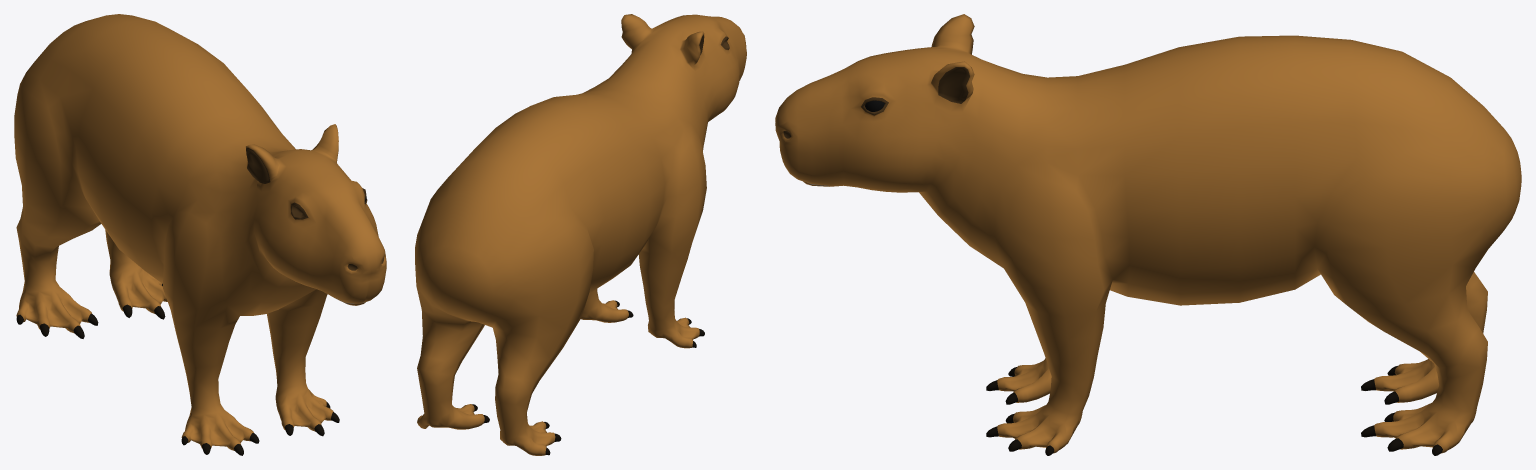
File: capybara.obj
3 renders of one model, left to right at view 1: azimuth 30°, elevation 25°; view 2: azimuth 150°, elevation 25°; view 3: azimuth 270°, elevation 25°, orthographic. The views are drawn at different scales.
Visible parts, largest first — view 1: capibara; view 2: capibara; view 3: capibara.
Boxes of the visible parts, bbox=[...] form: capibara: bbox=[14, 14, 386, 455]; capibara: bbox=[415, 14, 746, 455]; capibara: bbox=[775, 14, 1521, 455].
Size of the model in its own units: 0.3865 by 0.6795 by 1.22.
